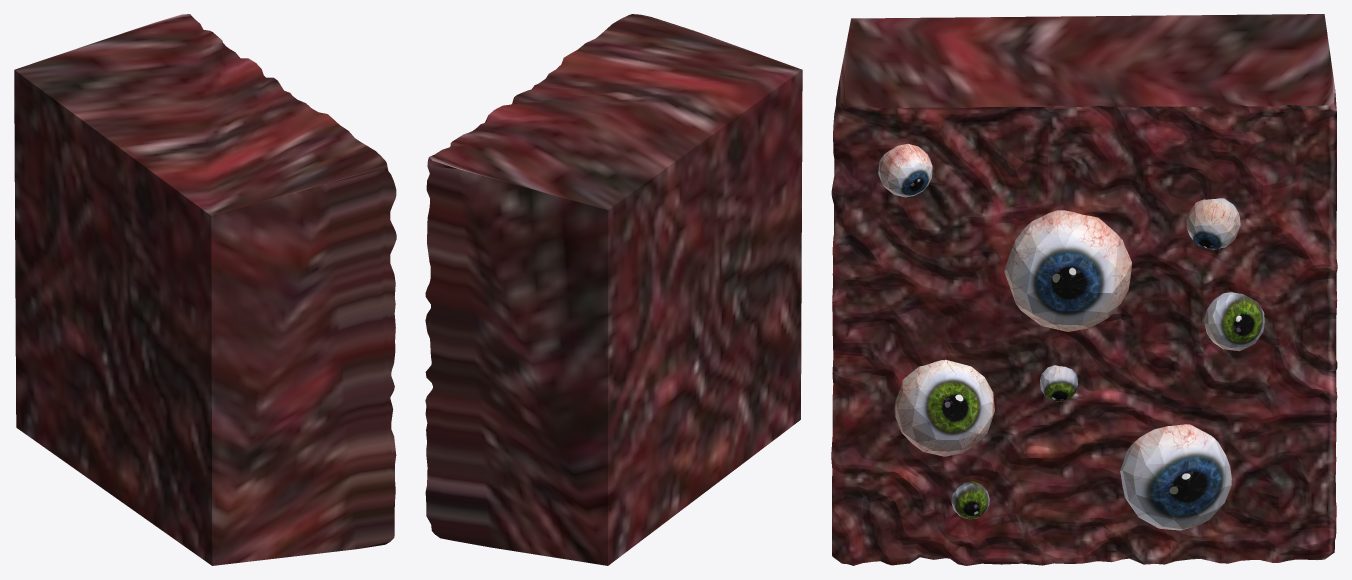
The model's file is wallofflesh.glb.
3 views of the same model, side by side, from view 1: azimuth 30°, elevation 25°; view 2: azimuth 150°, elevation 25°; view 3: azimuth 270°, elevation 25° (orthographic). The views are drawn at different scales.
Parts seen in each view (by area): view 1: Cube.001_10; view 2: Cube.001_10; view 3: Cube.001_10, Sphere_2, Sphere.004_5, Sphere.003_4, Sphere.001_3, Sphere.006_7, Sphere.002_8, Sphere.007_9, Sphere.005_6.
Part boxes in pixels (box(x1,y1,x2,y2)): Cube.001_10: box(14, 14, 396, 565); Cube.001_10: box(425, 14, 802, 565); Cube.001_10: box(831, 14, 1337, 565); Sphere_2: box(1004, 210, 1131, 331); Sphere.004_5: box(1120, 424, 1231, 530); Sphere.003_4: box(895, 359, 994, 456); Sphere.001_3: box(1204, 292, 1264, 351); Sphere.006_7: box(878, 143, 932, 197); Sphere.002_8: box(1186, 198, 1240, 249); Sphere.007_9: box(951, 481, 989, 519); Sphere.005_6: box(1040, 365, 1078, 401).
Size of the model in its own units: 4.89 by 8.02 by 7.99.
Materials: 9 (9 with a texture image).
